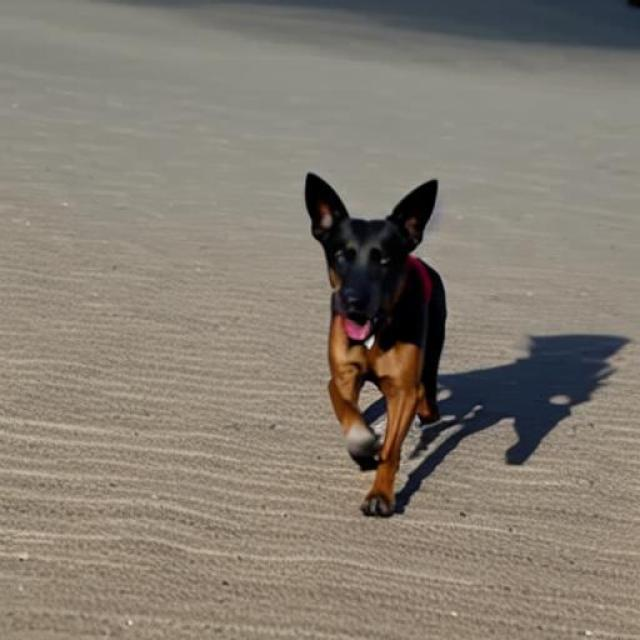Dog: (302, 170, 448, 520)
